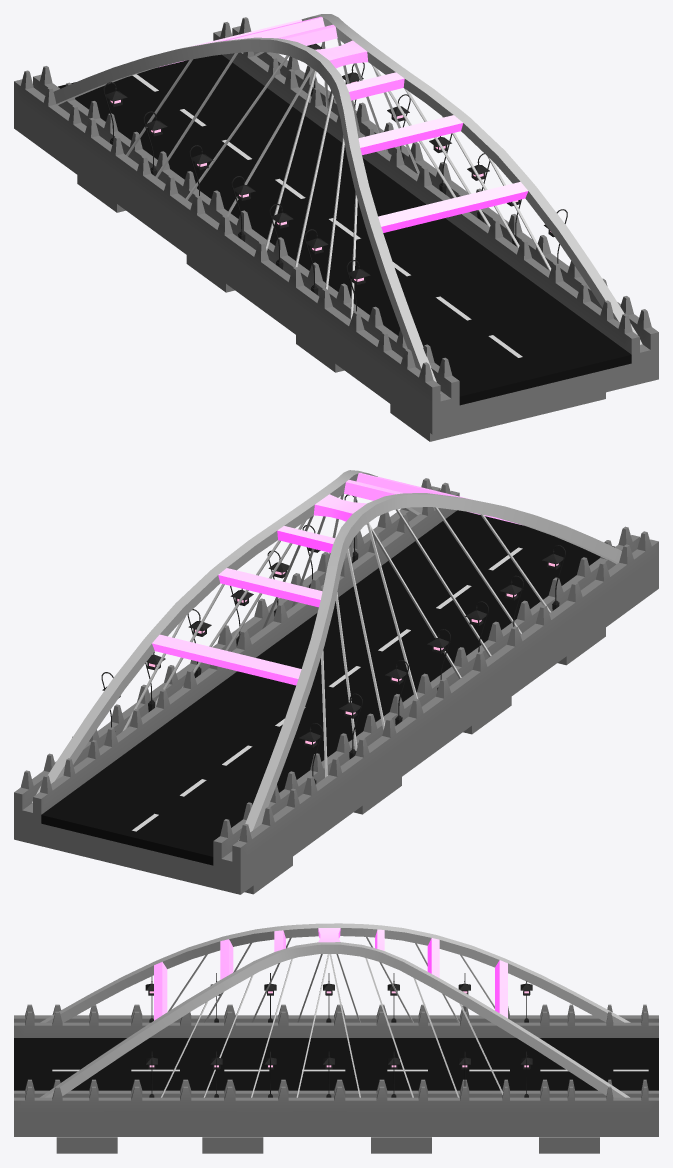
File: BridgeRedone.fbx
The picture shows the model from 3 angles, top to bottom: view 1: azimuth 30°, elevation 25°; view 2: azimuth 150°, elevation 25°; view 3: azimuth 270°, elevation 25°; orthographic projection. The views are drawn at different scales.
Parts seen in each view (by area): view 1: Bridge surface, Bridge mast4, Line002, Line006; view 2: Bridge surface, Line003, Line001; view 3: Bridge surface, Bridge mast3, Bridge mast4, Bridge mast, Bridge mast 2.
Boxes of the visible parts, x1,y1,x2,y2 form: Bridge surface: [14, 14, 658, 434]; Bridge mast4: [390, 392, 605, 441]; Line002: [265, 70, 316, 250]; Line006: [294, 93, 333, 267]; Bridge surface: [14, 470, 658, 894]; Line003: [346, 548, 384, 729]; Line001: [367, 522, 417, 698]; Bridge surface: [14, 923, 658, 1136]; Bridge mast3: [202, 1137, 263, 1153]; Bridge mast4: [56, 1137, 117, 1153]; Bridge mast: [539, 1137, 599, 1153]; Bridge mast 2: [371, 1137, 431, 1153].
Size of the model in its own units: 138 by 140 by 440.
